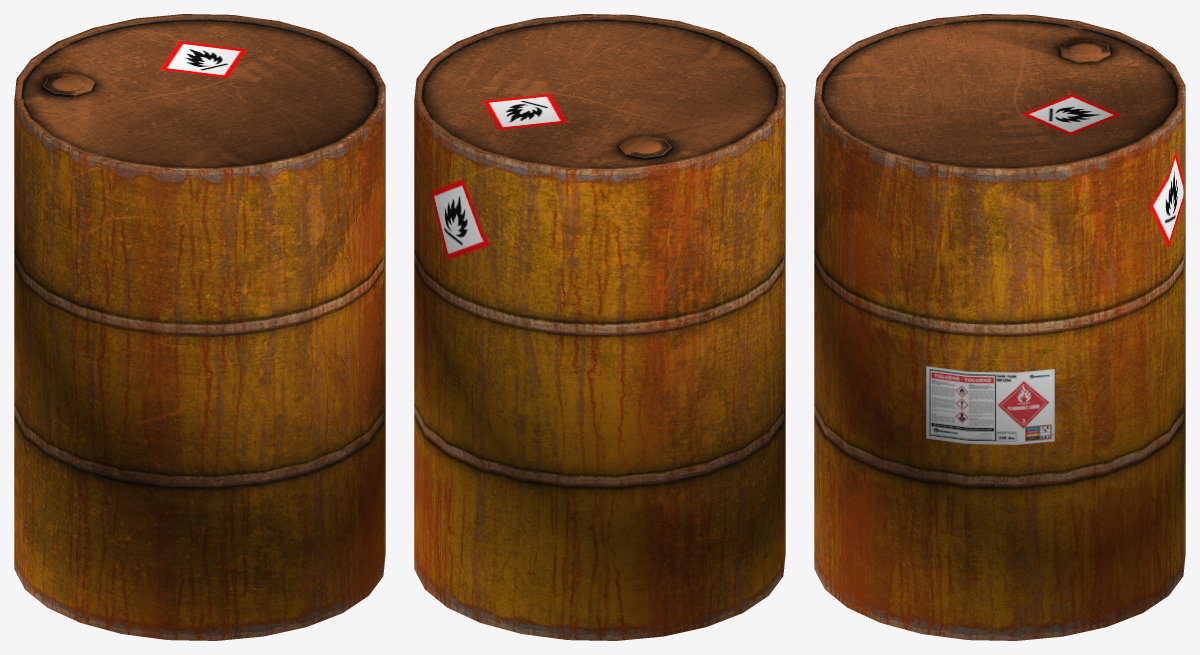
The model's file is barelRusty.fbx.
3 renders of one model, left to right at view 1: azimuth 30°, elevation 25°; view 2: azimuth 150°, elevation 25°; view 3: azimuth 270°, elevation 25°, orthographic.
Visible parts, largest first — view 1: Barrel04_0; view 2: Barrel04_0; view 3: Barrel04_0.
Part boxes in pixels (x1,y1,x2,y2): Barrel04_0: (14, 14, 385, 640); Barrel04_0: (414, 14, 785, 640); Barrel04_0: (814, 14, 1185, 640).
Size of the model in its own units: 220 by 307 by 220.
